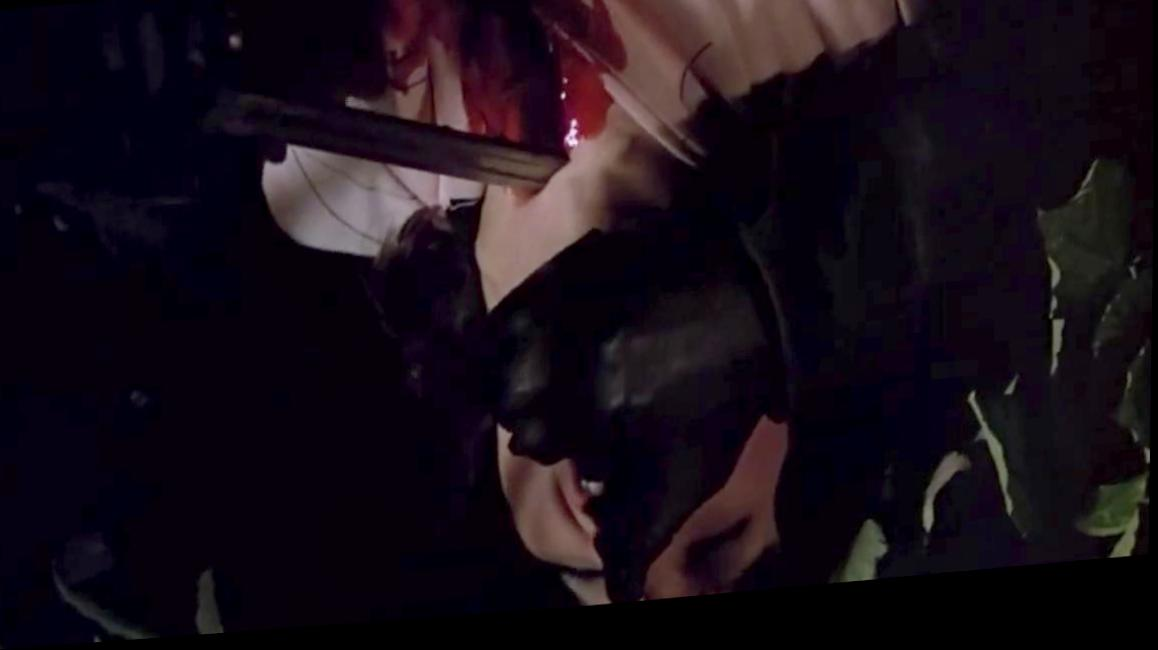Fire: (384, 0, 624, 162)
